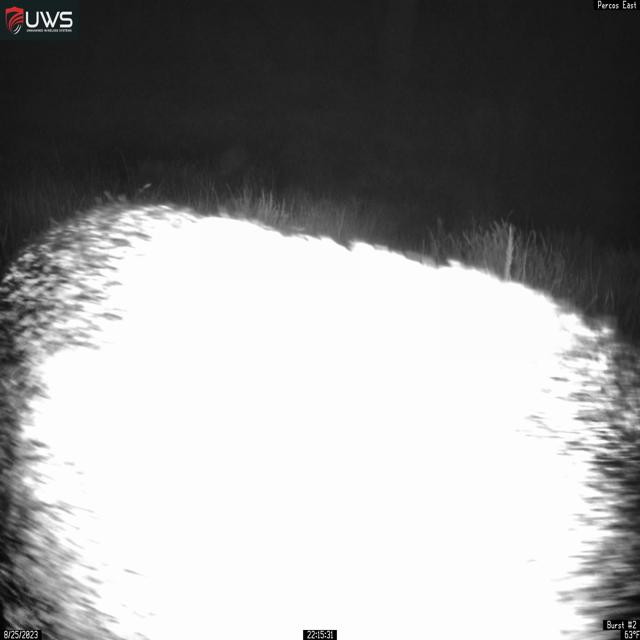pig: (0, 195, 640, 640)
